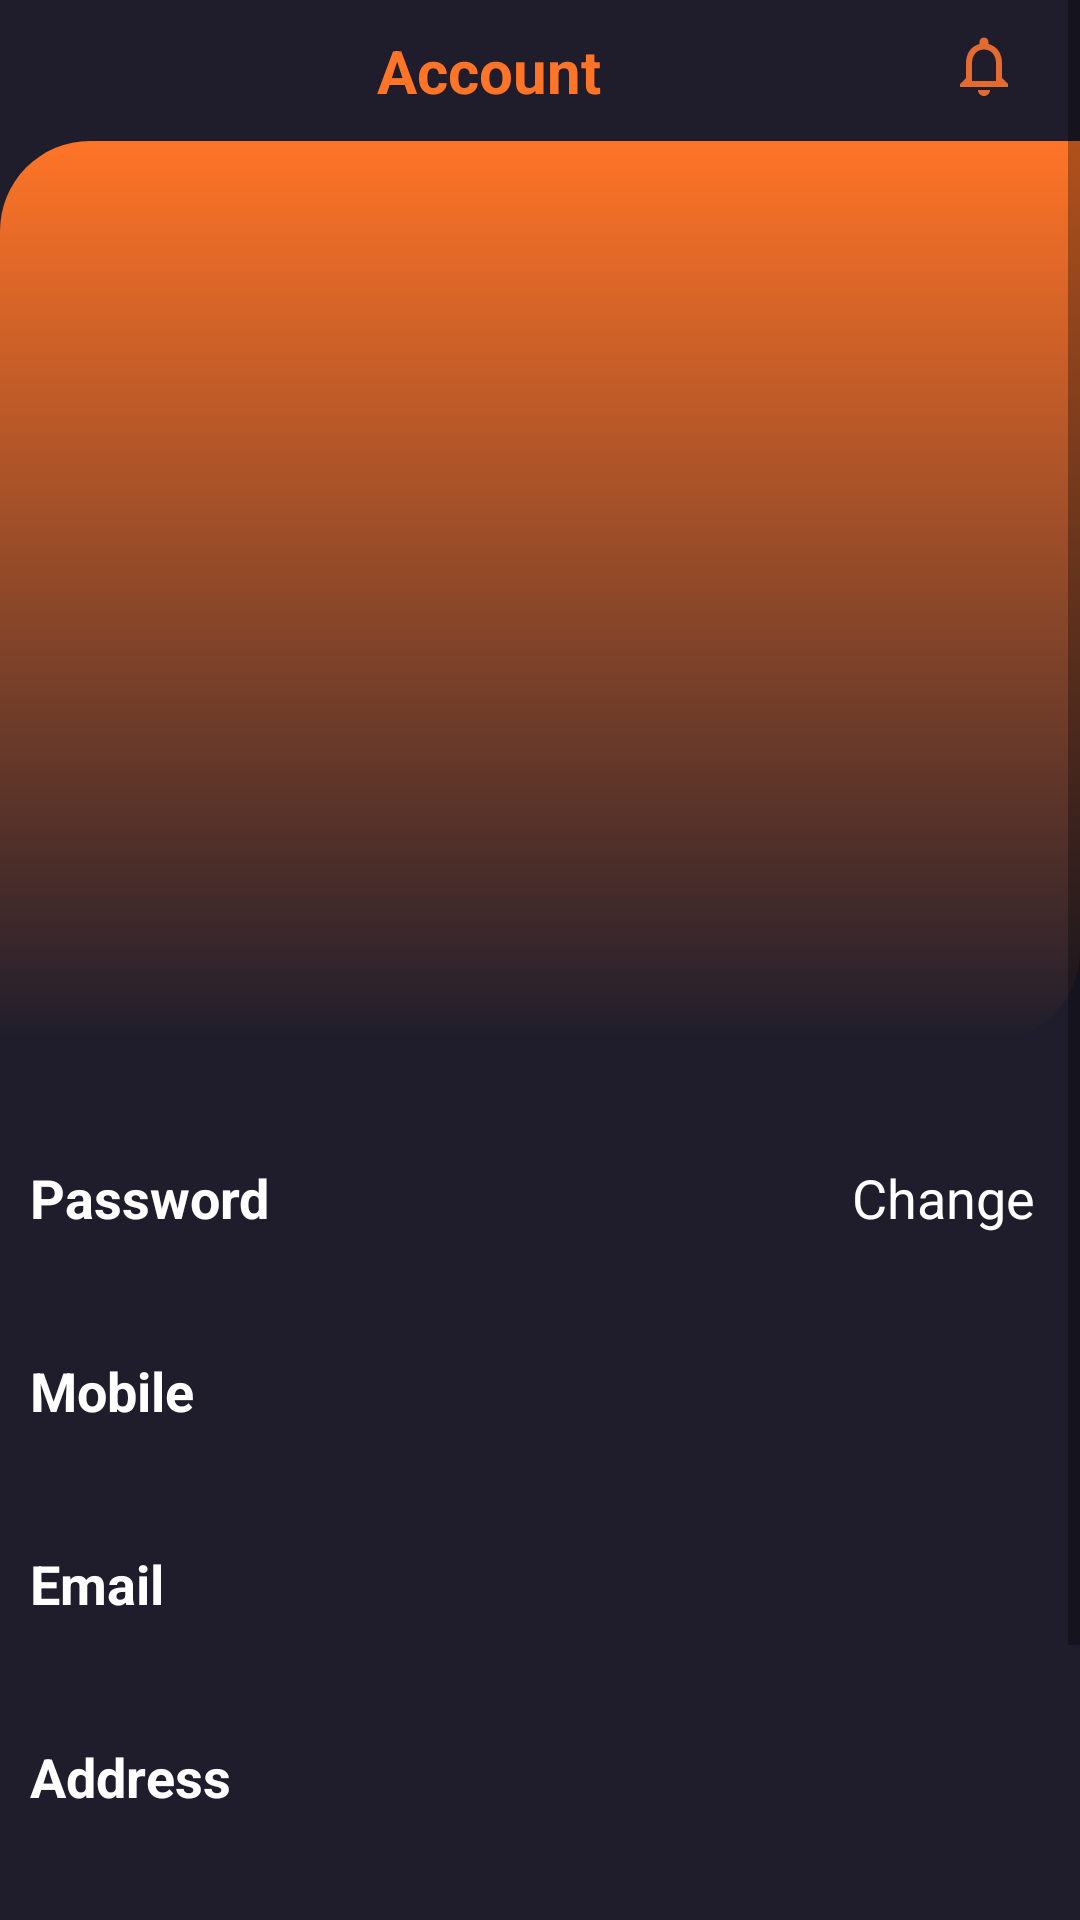

Point at icon controls on the screen. Image size 1080x1920, points as (x,y).
notifications: (984,66)
